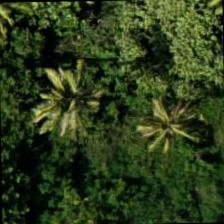Kelapa_Sawit: (25, 54, 117, 146), (122, 71, 214, 163)
